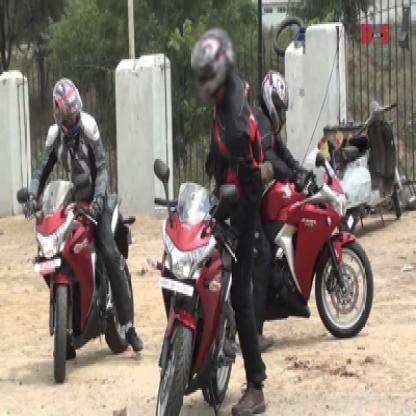Helmet: (187, 30, 242, 95), (48, 75, 91, 133), (257, 71, 293, 127)
